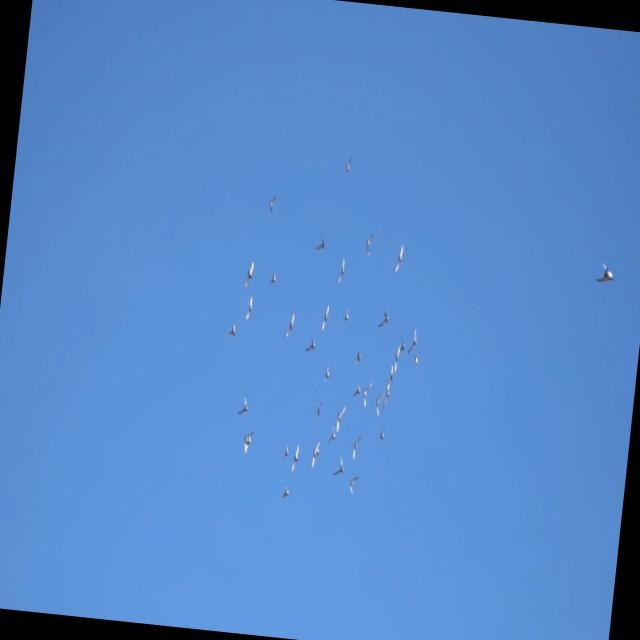bird: (594, 257, 617, 287), (390, 241, 406, 276), (241, 258, 256, 295), (332, 402, 347, 434), (359, 379, 373, 411), (404, 327, 418, 357), (350, 428, 362, 463), (309, 435, 322, 467), (331, 453, 345, 482), (283, 309, 295, 341), (243, 294, 255, 325), (241, 425, 254, 453), (289, 442, 300, 475), (319, 302, 331, 332), (372, 390, 384, 420), (335, 255, 346, 287), (390, 343, 401, 375), (234, 394, 250, 416), (376, 309, 392, 330), (362, 228, 373, 257), (346, 472, 359, 495), (303, 332, 317, 353), (381, 381, 391, 407), (266, 190, 277, 213), (314, 233, 327, 251), (386, 359, 395, 385), (343, 152, 353, 174), (314, 400, 324, 419), (226, 323, 237, 339), (351, 383, 362, 399), (268, 270, 277, 288), (280, 443, 289, 461), (412, 352, 420, 372), (323, 364, 331, 383), (341, 307, 349, 324), (378, 425, 386, 442), (281, 483, 289, 499), (398, 336, 405, 352), (354, 350, 361, 362)
